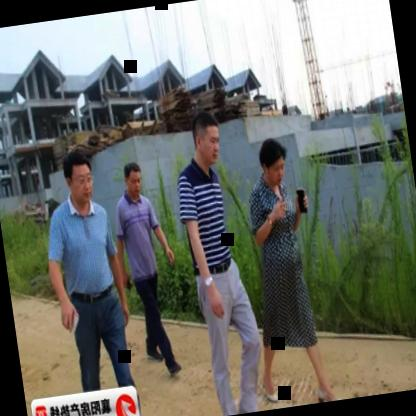head: (186, 104, 228, 174), (58, 146, 100, 207), (255, 133, 292, 193), (121, 158, 146, 200)
